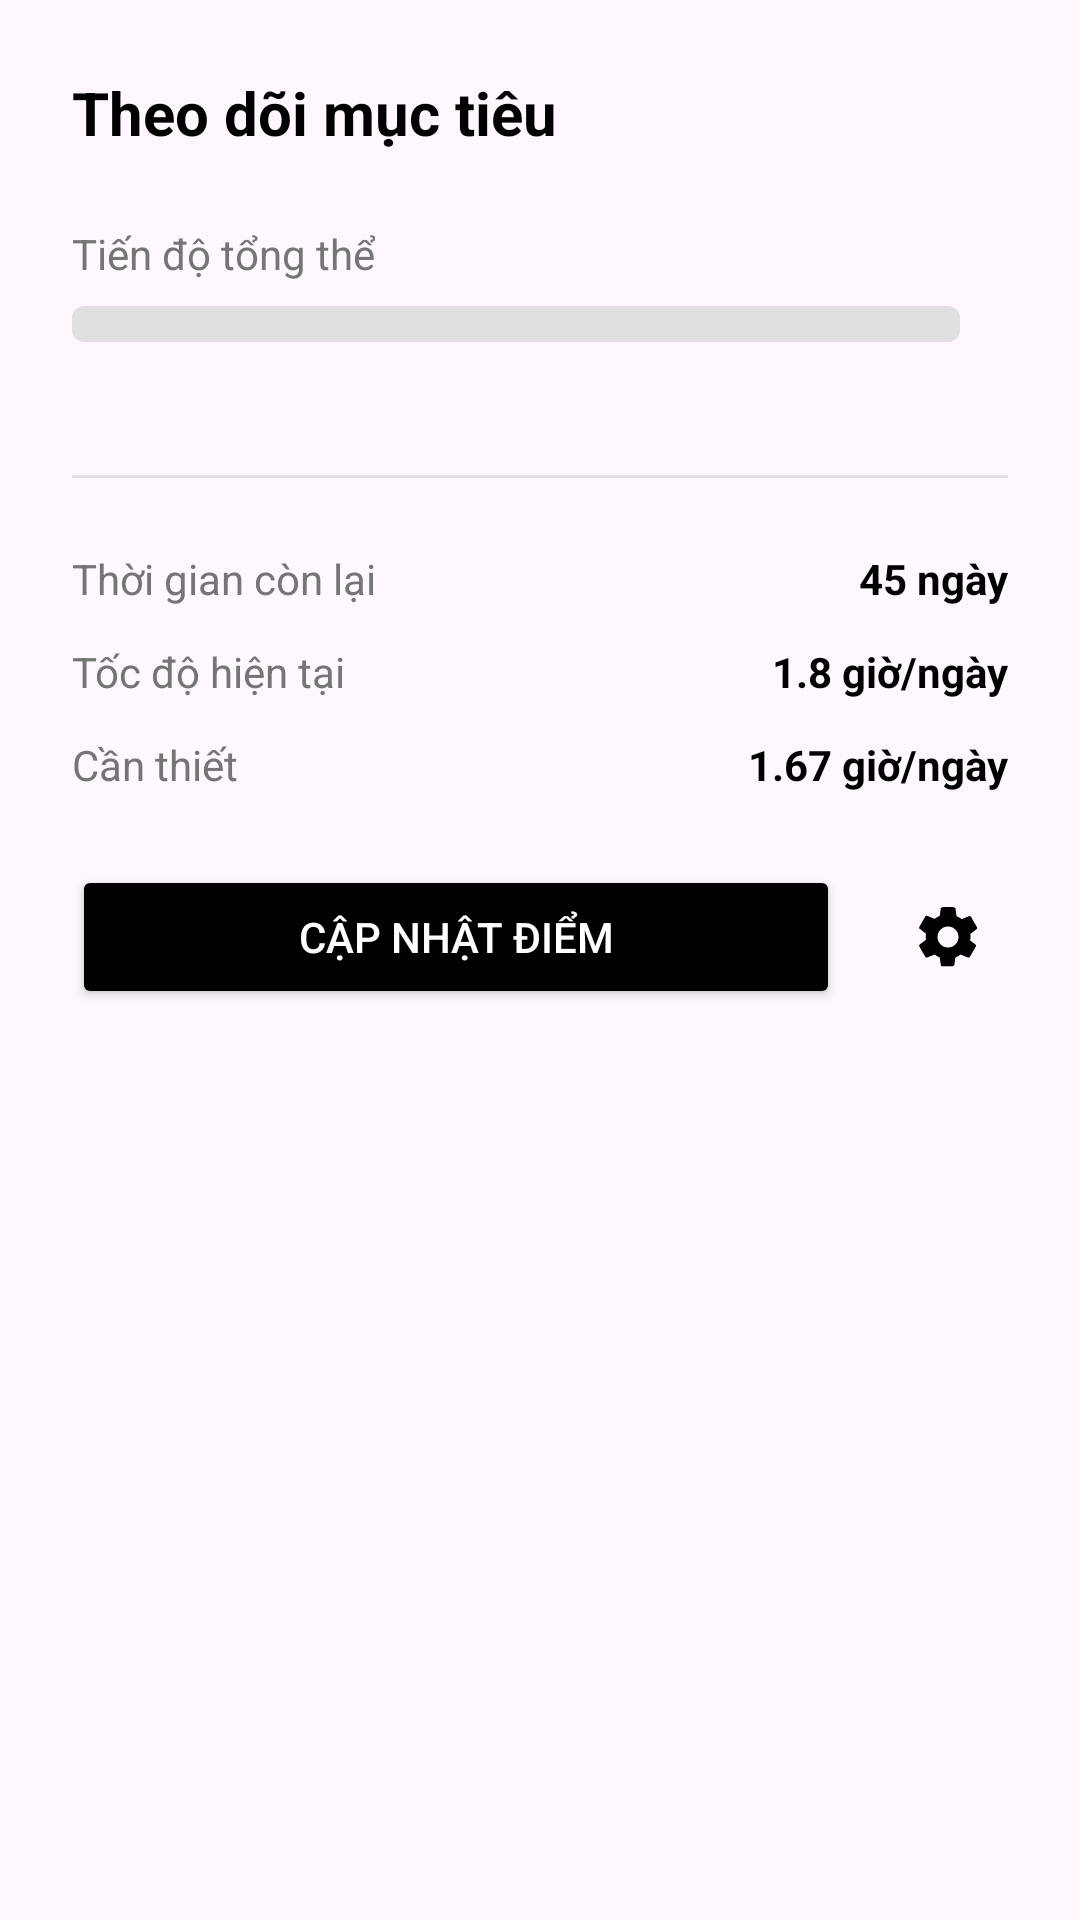

Named icons in this screenshot (1080w x 1920h) and their centers, [x,y]:
settings: [948,937]
